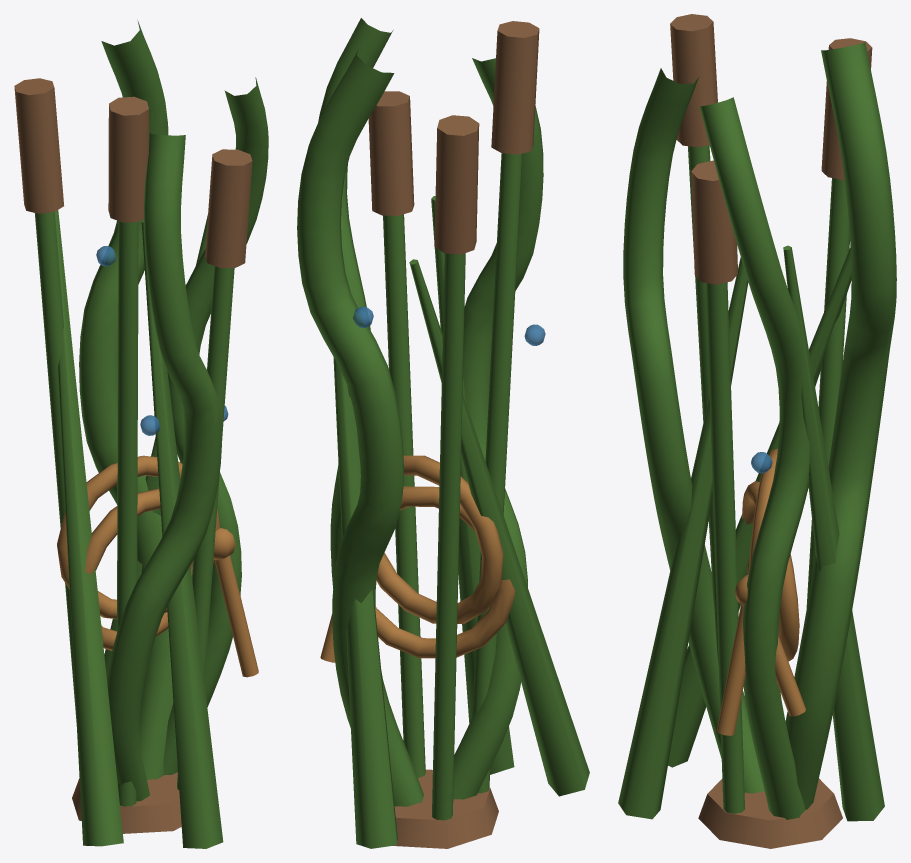
Rendered from drop-kelp-reeds.glb.
3 renders of one model, left to right at view 1: azimuth 30°, elevation 25°; view 2: azimuth 150°, elevation 25°; view 3: azimuth 270°, elevation 25°, orthographic. The views are drawn at different scales.
Visible parts, largest first — view 1: Mesh_Kelp2, Mesh_Kelp1, Mesh_LeafB, Mesh_LeafC, Mesh_Kelp3, Mesh_ReedStem2, Mesh_ReedHead1, Mesh_ReedStem3, Mesh_ReedHead2, Mesh_ReedStem1, Mesh_ReedHead3, Mesh_RootBase (+5 smaller); view 2: Mesh_Kelp1, Mesh_Kelp2, Mesh_ReedStem1, Mesh_LeafB, Mesh_LeafA, Mesh_ReedStem3, Mesh_ReedStem2, Mesh_ReedHead1, Mesh_RopeWrap2, Mesh_ReedHead2, Mesh_ReedHead3, Mesh_RootBase (+3 smaller); view 3: Mesh_Kelp1, Mesh_Kelp3, Mesh_Kelp2, Mesh_LeafC, Mesh_LeafA, Mesh_ReedStem3, Mesh_RootBase, Mesh_LeafB, Mesh_ReedStem1, Mesh_ReedHead2, Mesh_ReedHead3, Mesh_ReedStem2 (+5 smaller).
Boxes of the visible parts, <box> form: Mesh_Kelp2: <box>106,132,221,801</box>; Mesh_Kelp1: <box>79,20,173,779</box>; Mesh_LeafB: <box>54,210,123,846</box>; Mesh_LeafC: <box>141,220,223,848</box>; Mesh_Kelp3: <box>163,77,268,774</box>; Mesh_ReedStem2: <box>117,221,138,806</box>; Mesh_ReedHead1: <box>14,78,63,213</box>; Mesh_ReedStem3: <box>177,266,234,789</box>; Mesh_ReedHead2: <box>108,96,148,222</box>; Mesh_ReedStem1: <box>35,212,76,722</box>; Mesh_ReedHead3: <box>205,149,252,267</box>; Mesh_RootBase: <box>72,772,181,833</box>; Mesh_Kelp1: <box>297,49,423,806</box>; Mesh_Kelp2: <box>453,58,543,799</box>; Mesh_ReedStem1: <box>432,253,465,820</box>; Mesh_LeafB: <box>409,259,589,796</box>; Mesh_LeafA: <box>333,357,397,848</box>; Mesh_ReedStem3: <box>383,214,425,777</box>; Mesh_ReedStem2: <box>472,153,522,793</box>; Mesh_ReedHead1: <box>434,115,479,254</box>; Mesh_RopeWrap2: <box>376,455,503,623</box>; Mesh_ReedHead2: <box>491,21,539,154</box>; Mesh_ReedHead3: <box>368,91,414,215</box>; Mesh_RootBase: <box>393,769,498,848</box>; Mesh_Kelp1: <box>785,42,896,809</box>; Mesh_Kelp3: <box>699,97,813,819</box>; Mesh_Kelp2: <box>623,68,764,793</box>; Mesh_LeafC: <box>618,257,748,819</box>; Mesh_LeafA: <box>783,245,884,821</box>; Mesh_ReedStem3: <box>706,282,744,813</box>; Mesh_RootBase: <box>698,778,842,848</box>; Mesh_LeafB: <box>668,248,851,767</box>; Mesh_ReedStem1: <box>806,178,849,607</box>; Mesh_ReedHead2: <box>670,14,717,147</box>; Mesh_ReedHead3: <box>691,160,737,284</box>; Mesh_ReedStem2: <box>688,145,718,664</box>.
Bounding box in the file's own units: 0.2916 × 0.9597 × 0.3078.
2 materials, 2 textured.
